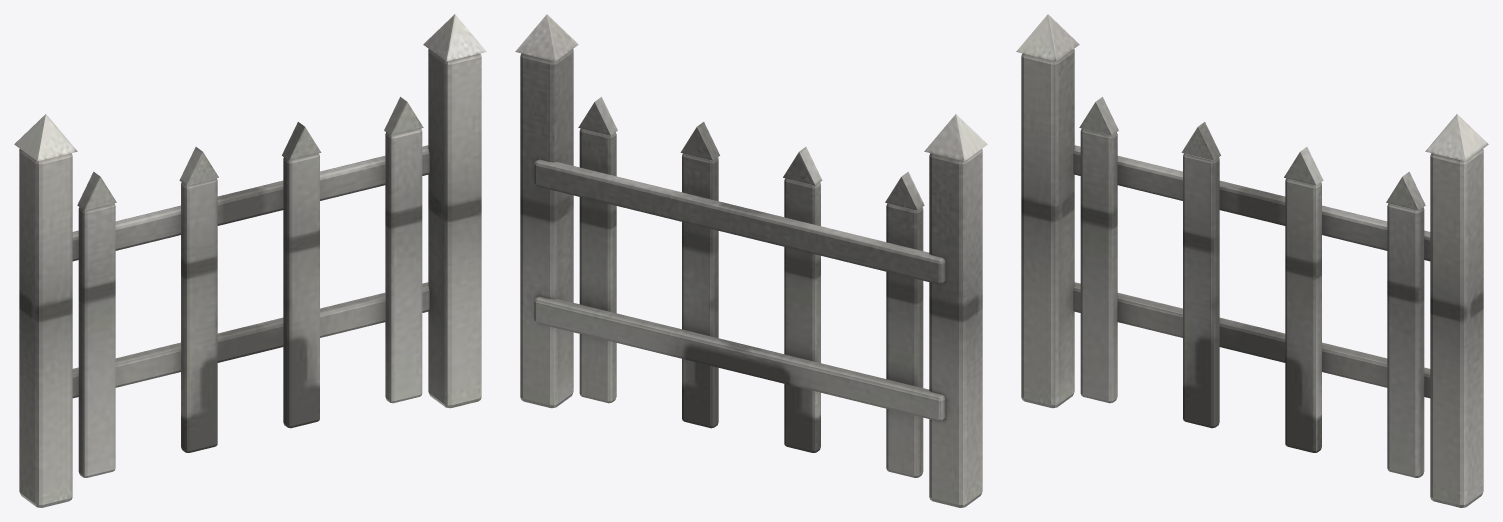
Rendered from fence_picket.glb.
3 renders of one model, left to right at view 1: azimuth 30°, elevation 25°; view 2: azimuth 150°, elevation 25°; view 3: azimuth 330°, elevation 25°, orthographic.
Parts seen in each view (by area): view 1: fence_picket; view 2: fence_picket; view 3: fence_picket.
Boxes of the visible parts, x1,y1,x2,y2 form: fence_picket: (14, 14, 486, 507); fence_picket: (515, 14, 987, 507); fence_picket: (1016, 14, 1488, 507).
Size of the model in its own units: 1.1 by 0.9 by 0.1095.
Materials: 1 (1 with a texture image).
